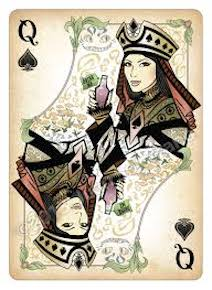QueenOfSpades: (5, 6, 206, 283)
